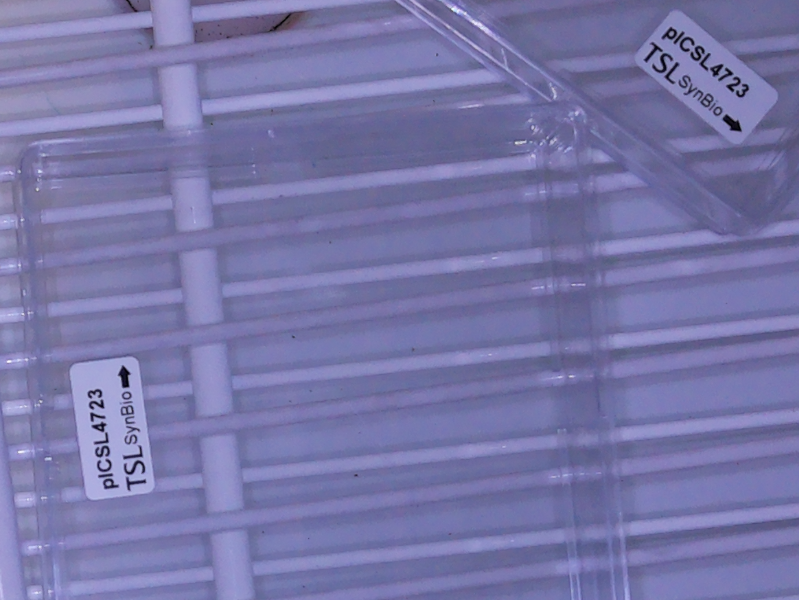plate: (13, 99, 636, 600), (412, 1, 798, 244)
